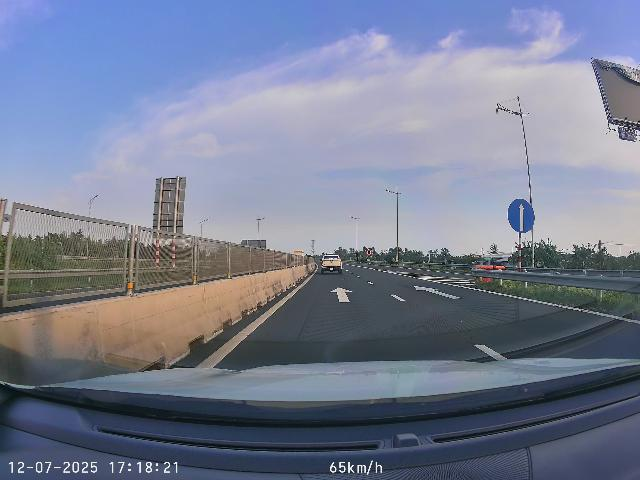301a-cac-xe-chi-duoc-di-thang: (507, 198, 535, 234)
